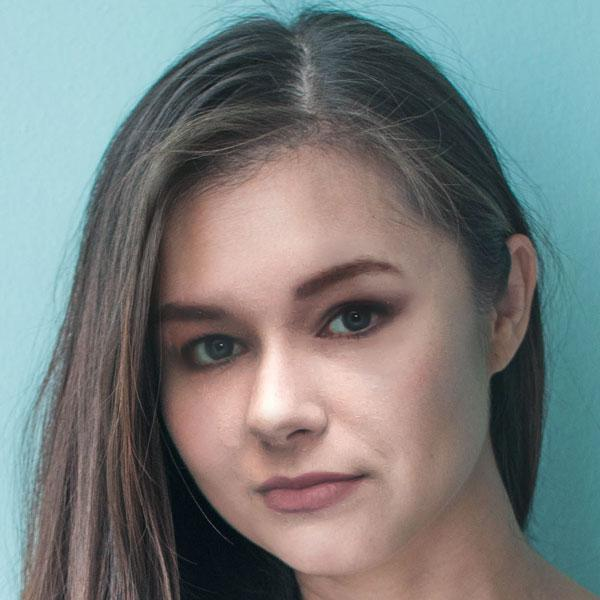Eyes: (310, 289, 400, 349), (171, 324, 258, 380)
